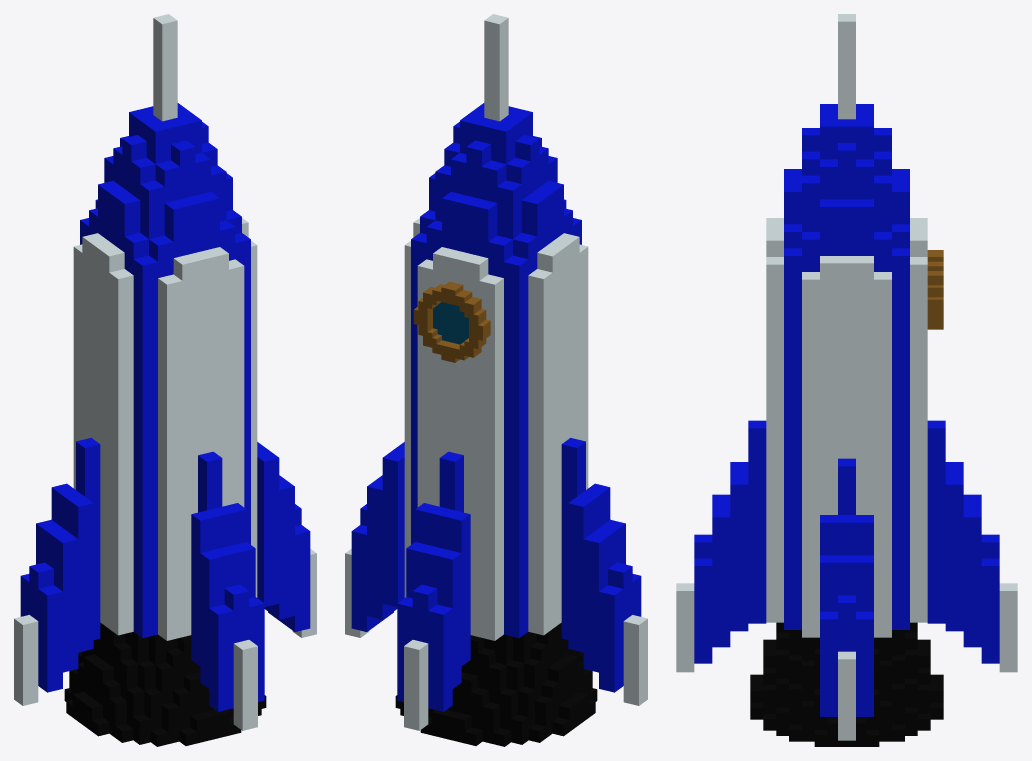
The model's file is rocket.fbx.
The picture shows the model from 3 angles, left to right: view 1: azimuth 30°, elevation 25°; view 2: azimuth 150°, elevation 25°; view 3: azimuth 270°, elevation 25°; orthographic projection.
Visible parts, largest first — view 1: Cylinder, Circle; view 2: Cylinder, Circle, Circle.001; view 3: Cylinder, Circle, Circle.001.
Part boxes in pixels (x1=…): Cylinder: x1=14, y1=14, x2=316, y2=730; Circle: x1=64, y1=622, x2=266, y2=746; Cylinder: x1=345, y1=14, x2=647, y2=730; Circle: x1=395, y1=622, x2=597, y2=746; Circle.001: x1=413, y1=281, x2=490, y2=362; Cylinder: x1=676, y1=14, x2=1017, y2=740; Circle: x1=750, y1=622, x2=943, y2=746; Circle.001: x1=927, y1=250, x2=943, y2=329.
Bounding box in the file's own units: 273 × 608 × 273.
